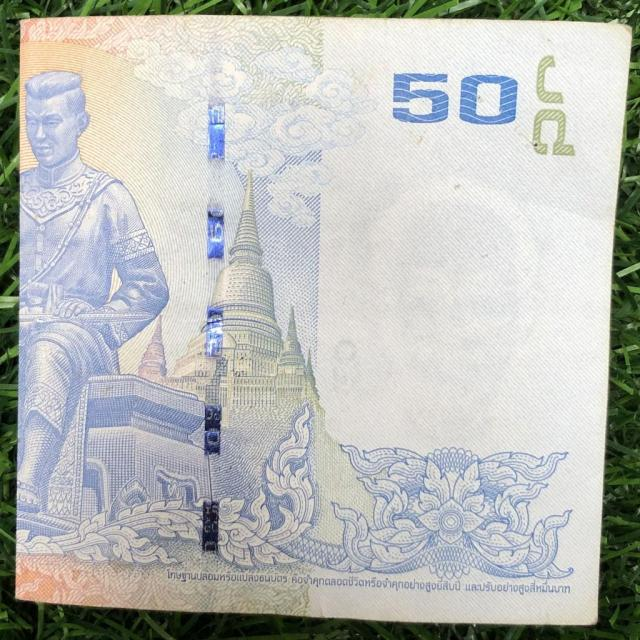THAI50: (12, 14, 635, 633)
